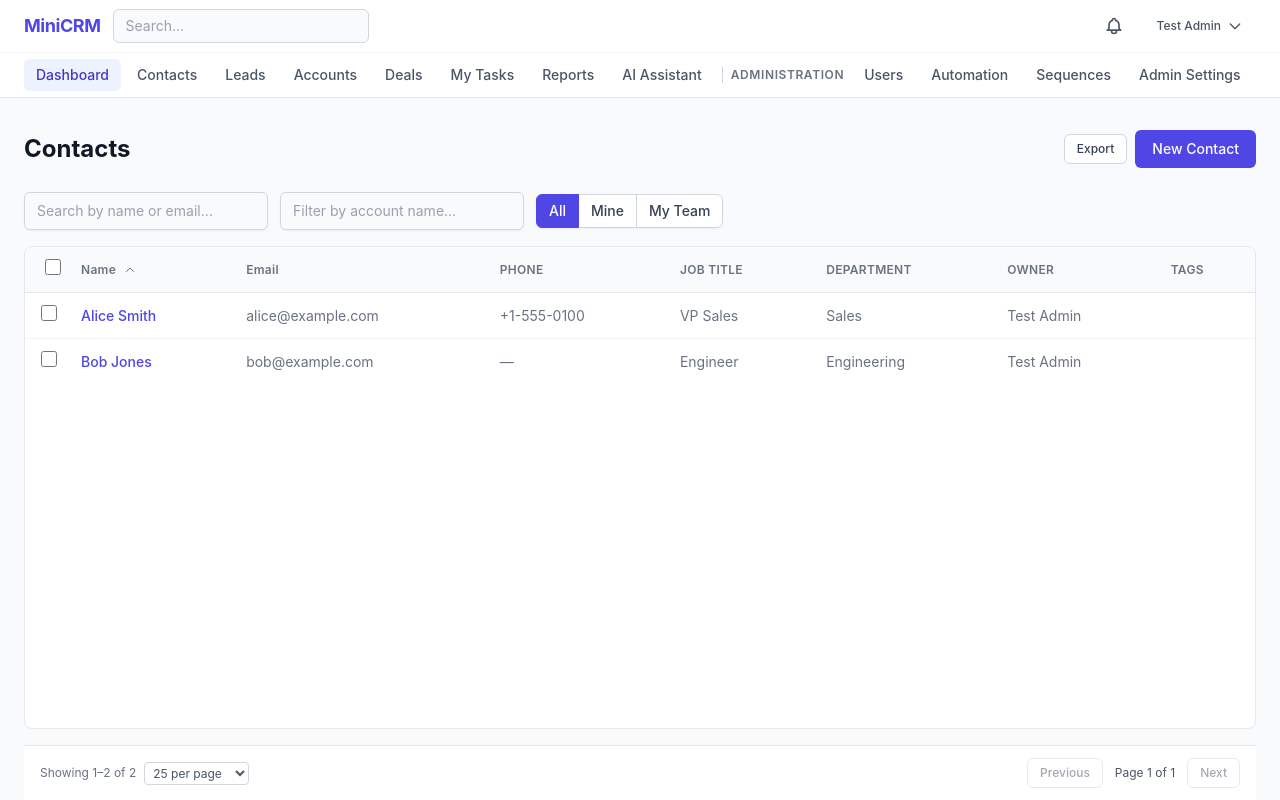
Test: ContactsPage › hides the form when Cancel is clicked
Click the button with test id "new-contact-button" at (1196, 149), box [1135, 130, 1256, 168]
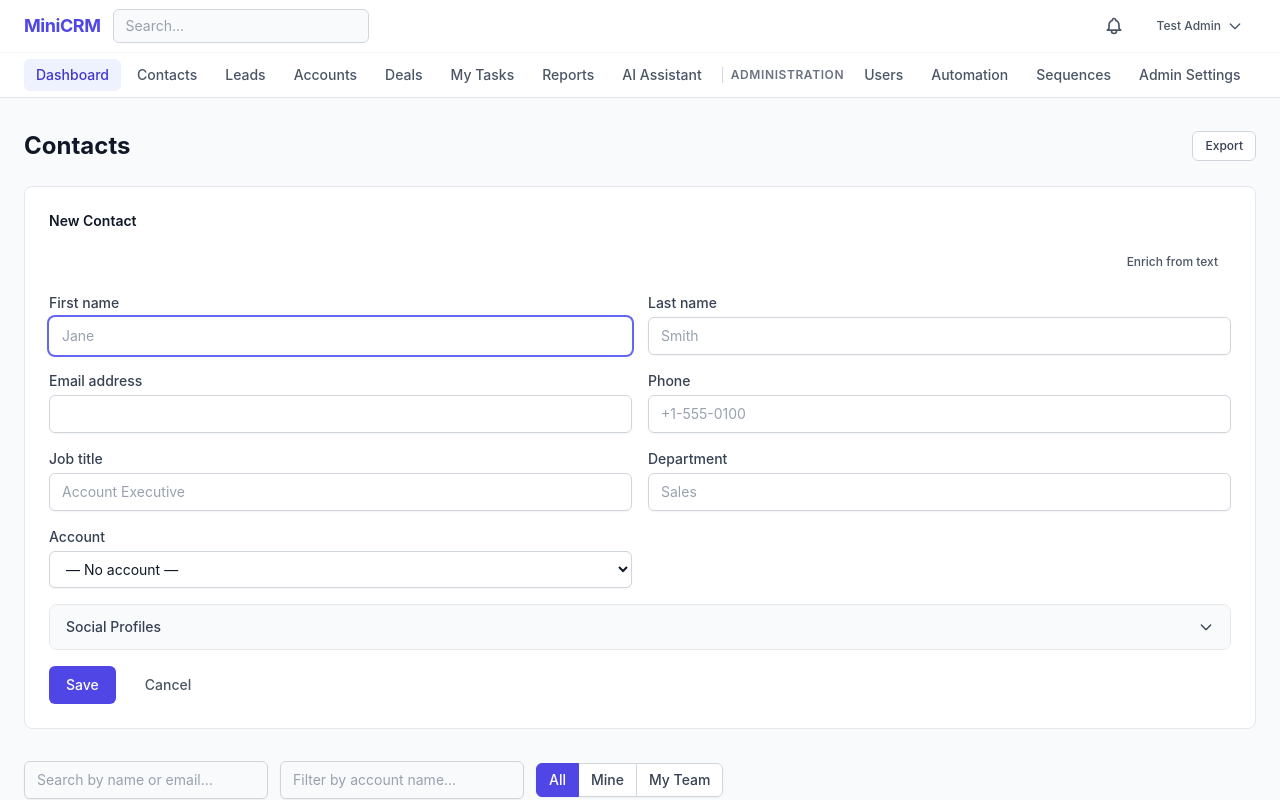
expect the form with test id "contact-form" is shown: met, box [49, 247, 1231, 704]
Click the button with test id "contact-form-cancel" at (168, 685), box [128, 666, 208, 704]
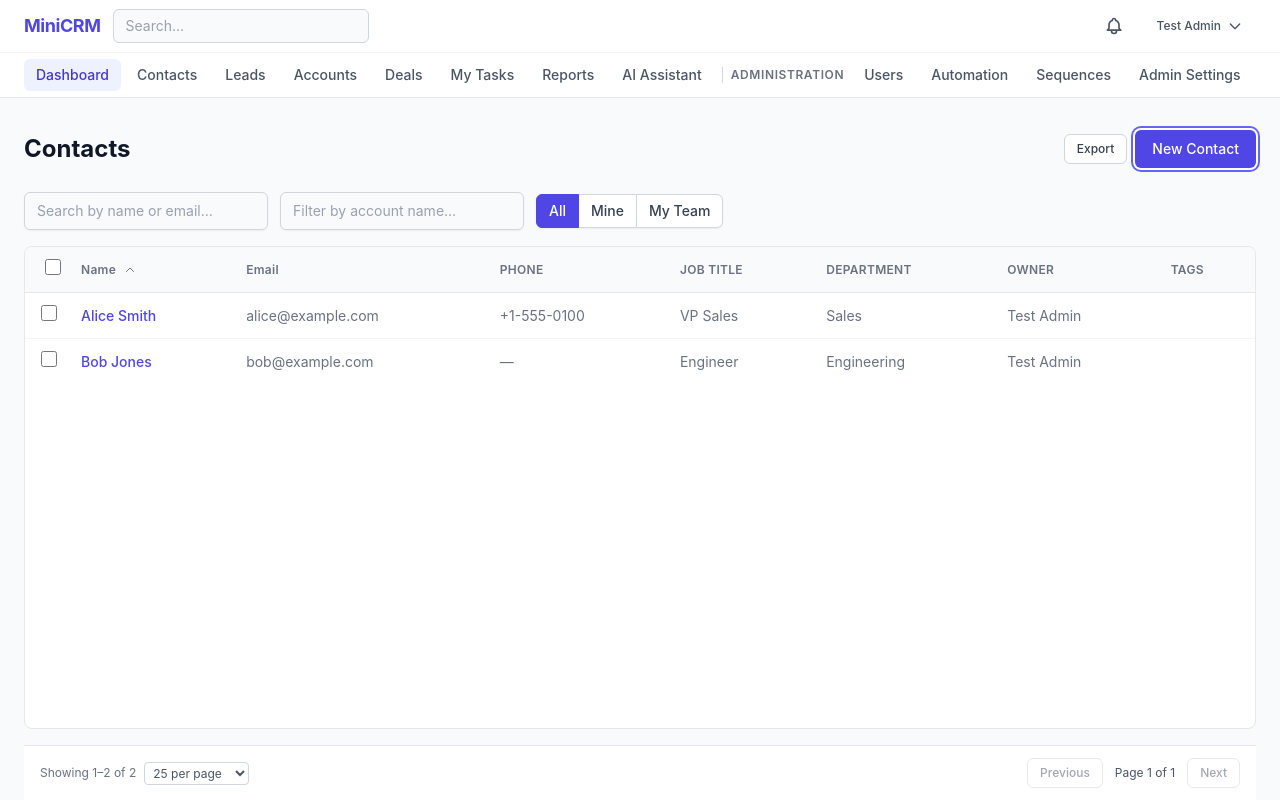
expect the form with test id "contact-form" is gone: met
